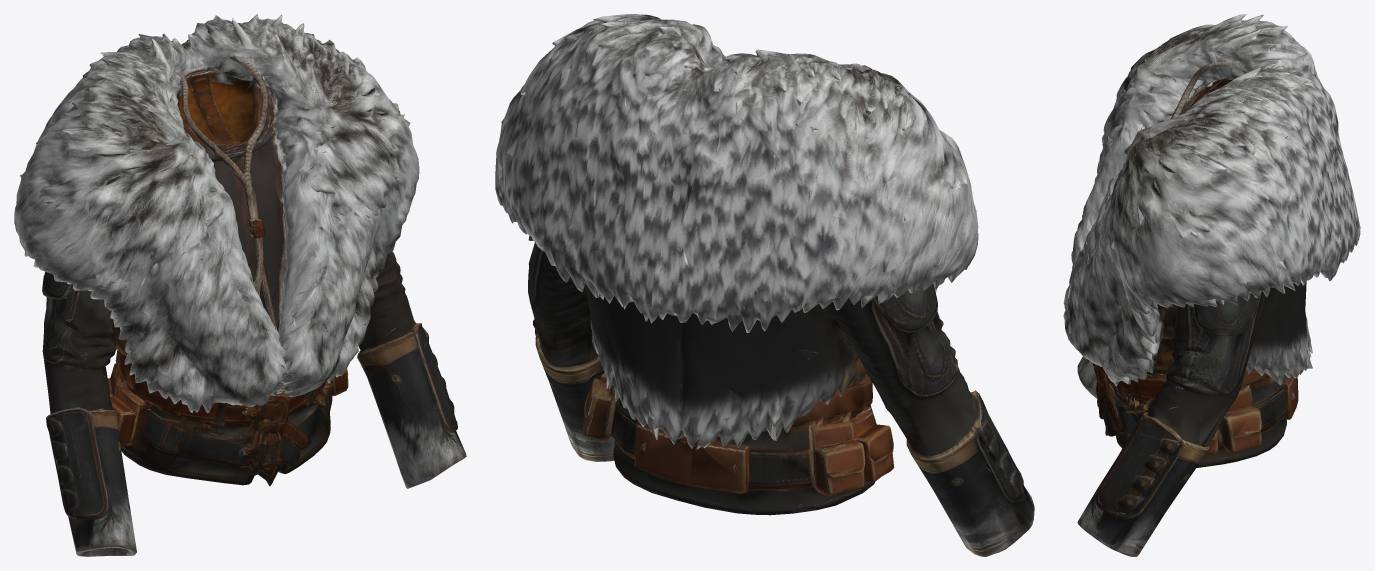
Rendered from manto_branco_guasto.glb.
3 views of the same model, side by side, from view 1: azimuth 30°, elevation 25°; view 2: azimuth 150°, elevation 25°; view 3: azimuth 270°, elevation 25° (orthographic). The views are drawn at different scales.
Visible parts, largest first — view 1: Mesh_0; view 2: Mesh_0; view 3: Mesh_0.
Part boxes in pixels (x1,y1,x2,y2): Mesh_0: [14, 14, 466, 556]; Mesh_0: [495, 14, 1034, 556]; Mesh_0: [1063, 14, 1360, 556].
Size of the model in its own units: 1.74 by 1.9 by 1.19.
1 material, 1 textured.
